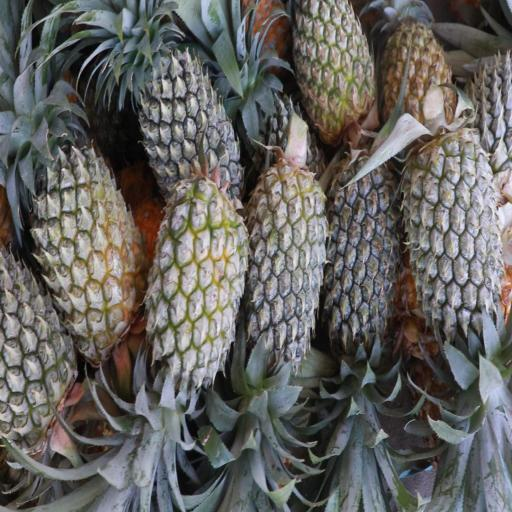------------------------------: (38, 144, 142, 350), (151, 178, 241, 384), (296, 0, 373, 133), (383, 2, 452, 136)
